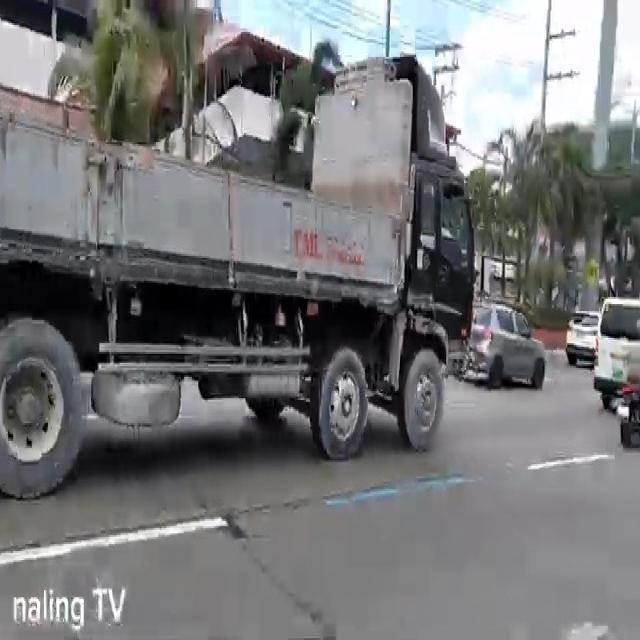car: (468, 297, 549, 392), (564, 309, 601, 369)
motorcycle: (613, 324, 640, 449)
truck: (0, 48, 476, 502)
